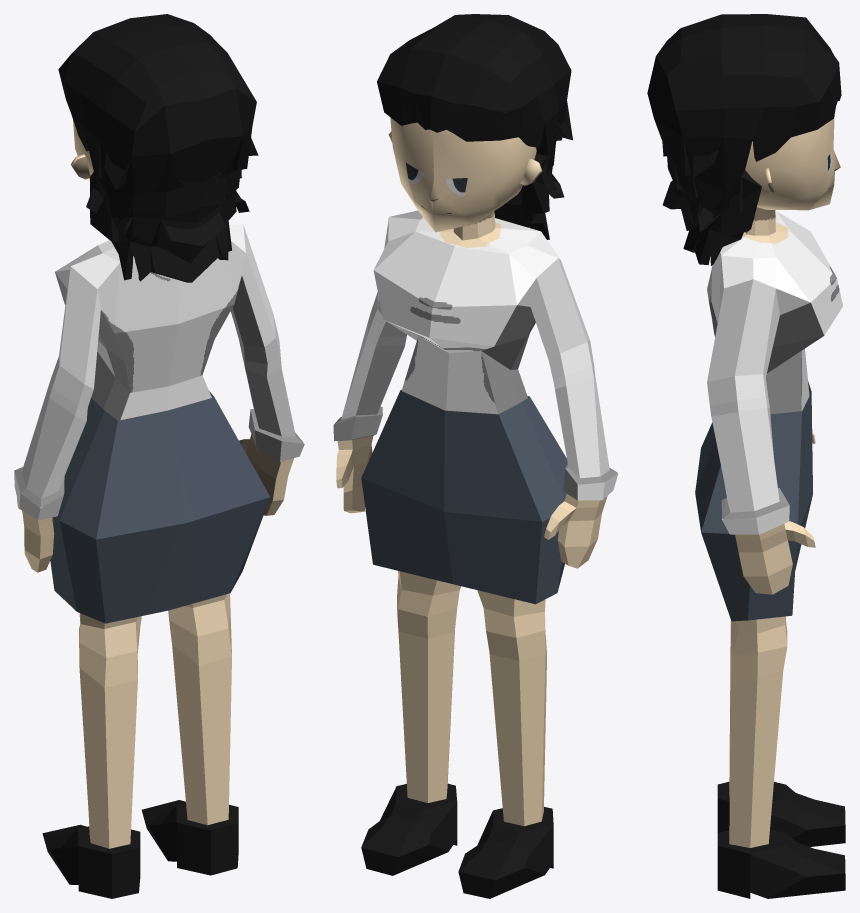
The model's file is F MULLET.glb.
The picture shows the model from 3 angles, left to right: view 1: azimuth 30°, elevation 25°; view 2: azimuth 150°, elevation 25°; view 3: azimuth 270°, elevation 25°; orthographic projection. The views are drawn at different scales.
Visible parts, largest first — view 1: WOMEN OFFICE, MULLET; view 2: WOMEN OFFICE, MULLET, WOMEN HEAD; view 3: WOMEN OFFICE, MULLET, WOMEN HEAD.
Part boxes in pixels (box(x1,y1,x2,y2)): WOMEN OFFICE: box(14, 224, 304, 898); MULLET: box(58, 14, 258, 282); WOMEN OFFICE: box(333, 210, 618, 898); MULLET: box(377, 14, 572, 239); WOMEN HEAD: box(390, 117, 536, 232); WOMEN OFFICE: box(695, 207, 845, 898); MULLET: box(647, 14, 841, 265); WOMEN HEAD: box(745, 116, 840, 210).
Size of the model in its own units: 3.07 by 9.1 by 1.96.
4 materials, 4 textured.
